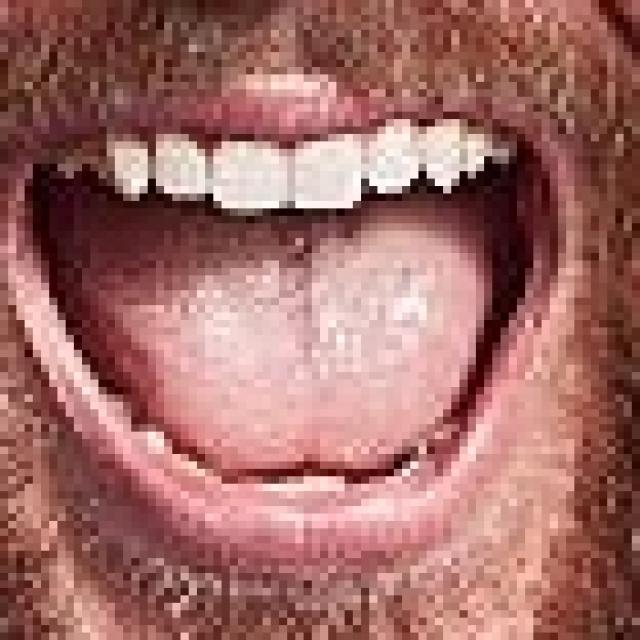open-mouth: (0, 81, 591, 558)
